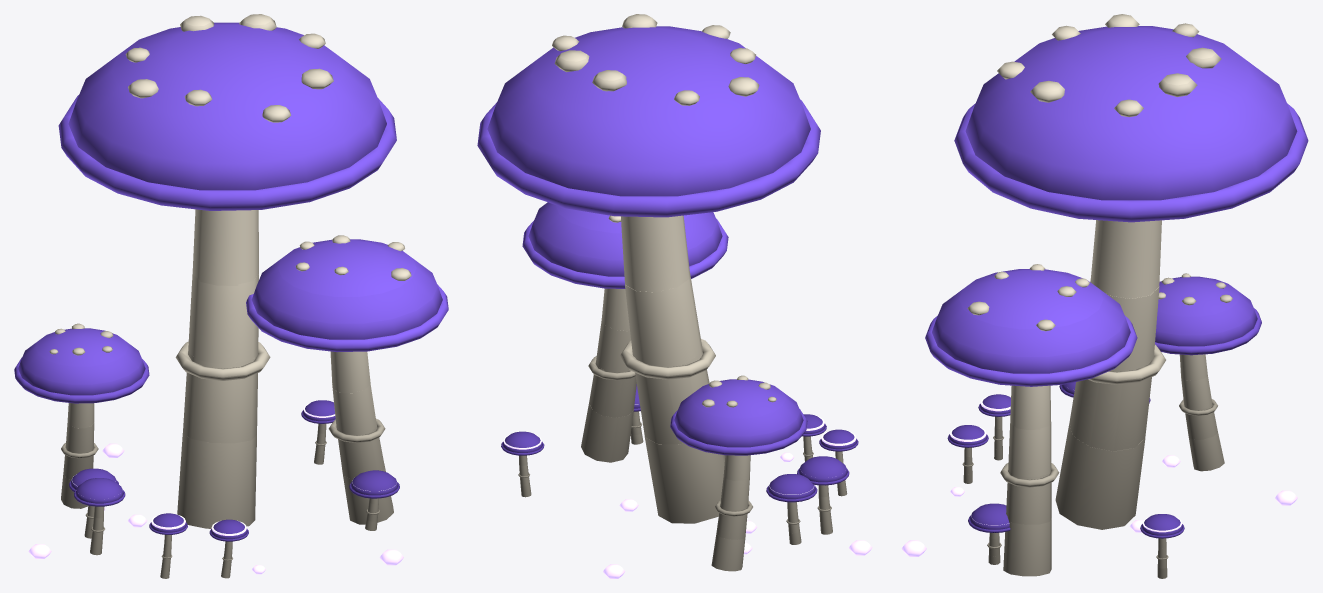
File: mushrooms_violet.glb
3 views of the same model, side by side, from view 1: azimuth 30°, elevation 25°; view 2: azimuth 150°, elevation 25°; view 3: azimuth 270°, elevation 25° (orthographic). The views are drawn at different scales.
Visible parts, largest first — view 1: t0_mushroom_violet, t0_mushroom_stem, t0_glow_violet; view 2: t0_mushroom_violet, t0_mushroom_stem, t0_glow_violet; view 3: t0_mushroom_violet, t0_mushroom_stem, t0_glow_violet.
Part boxes in pixels (<box>): t0_mushroom_violet: <box>14,22,448,541</box>; t0_mushroom_stem: <box>49,14,411,578</box>; t0_glow_violet: <box>28,403,403,574</box>; t0_mushroom_violet: <box>477,26,858,502</box>; t0_mushroom_stem: <box>518,14,847,571</box>; t0_glow_violet: <box>503,404,872,578</box>; t0_mushroom_violet: <box>925,26,1308,538</box>; t0_mushroom_stem: <box>962,14,1232,578</box>; t0_glow_violet: <box>901,395,1297,556</box>.
Size of the model in its own units: 1.94 by 2.34 by 1.79.
